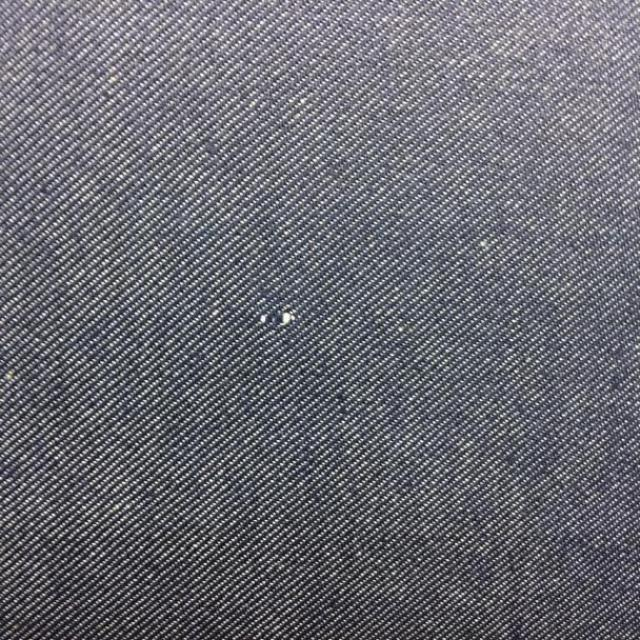Knot: (260, 311, 296, 327)
